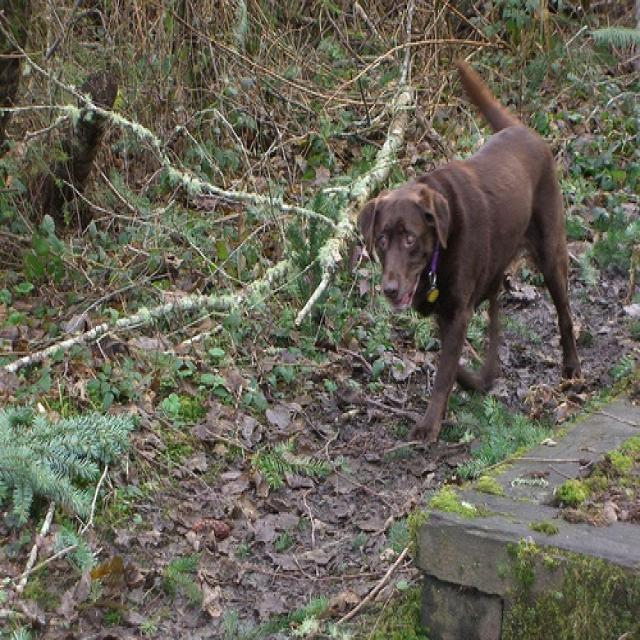dog: (357, 53, 583, 437)
